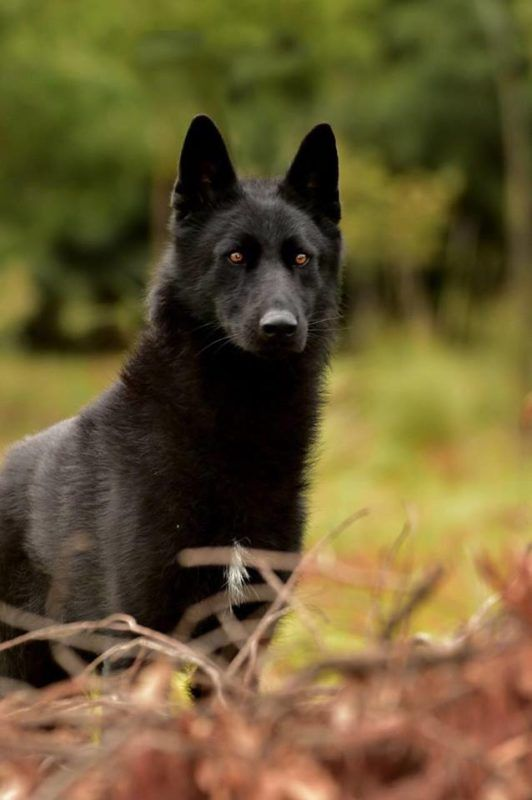Lobo: (26, 88, 436, 649)
